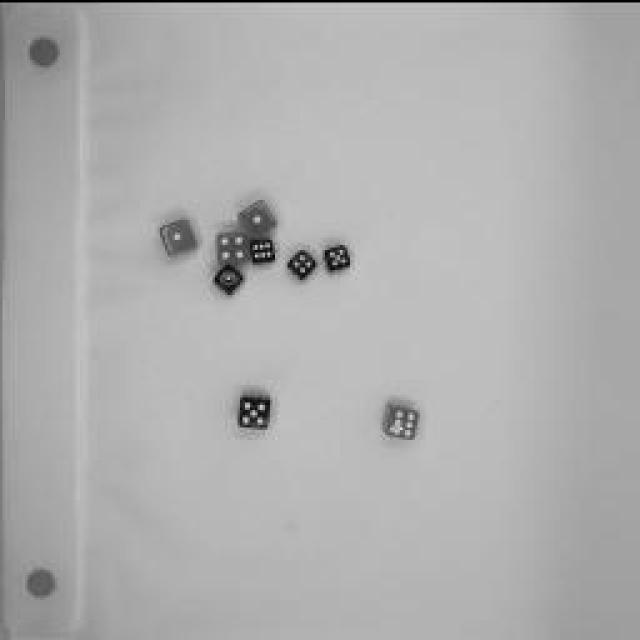dice_1: (234, 186, 278, 244), (152, 210, 202, 260), (209, 260, 251, 300)
dice_4: (213, 225, 255, 270), (285, 246, 323, 284)
dice_5: (235, 385, 277, 433), (323, 237, 355, 275)
dice_6: (378, 397, 424, 445), (246, 235, 282, 265)
